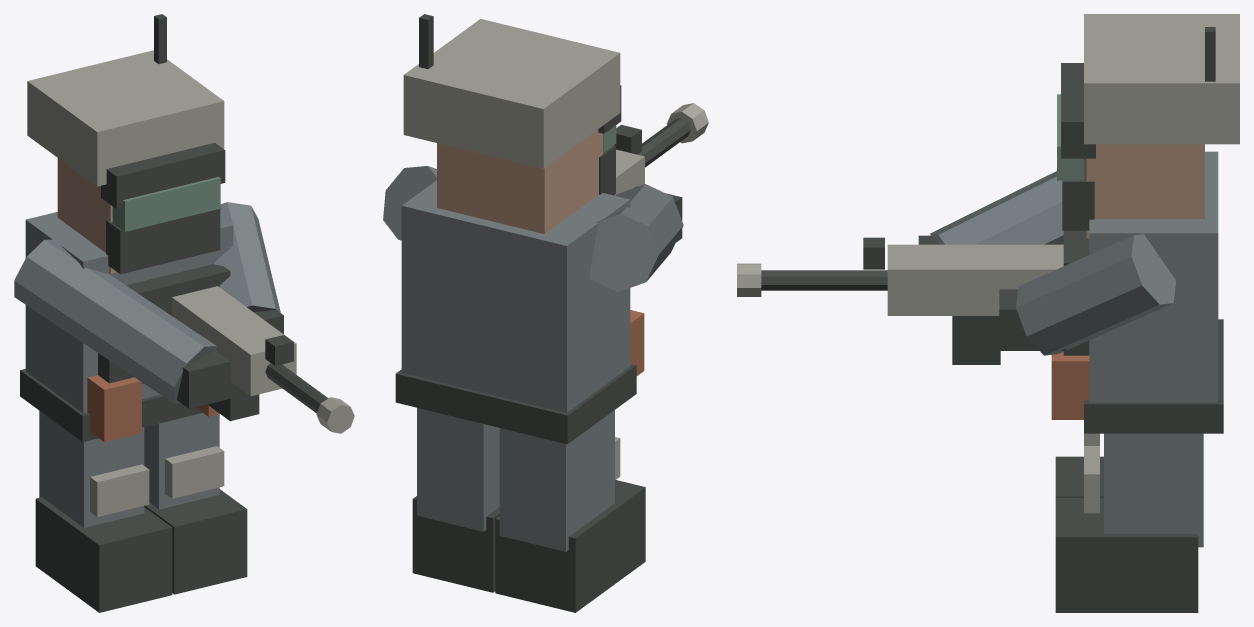
File: raider_guard.glb
The picture shows the model from 3 angles, left to right: view 1: azimuth 30°, elevation 25°; view 2: azimuth 150°, elevation 25°; view 3: azimuth 270°, elevation 25°; orthographic projection. The views are drawn at different scales.
Visible parts, largest first — view 1: ballistic helmet, left sleeve.001, heavy boot.002, layered torso.001, heavy boot.003, cargo trousers.002, rifle receiver.001, face wrap.001, helmet visor, right sleeve.001, cargo trousers.003, goggles.002 (+12 smaller); view 2: layered torso.001, ballistic helmet, cargo trousers.002, heavy boot.002, head.001, cargo trousers.003, belt.002, left sleeve.001, heavy boot.003, right sleeve.001, forward barrel.001, rifle receiver.001 (+5 smaller); view 3: ballistic helmet, layered torso.001, heavy boot.003, right sleeve.001, rifle receiver.001, cargo trousers.003, head.001, left sleeve.001, belt.002, forward barrel.001, ammo pouch.003, helmet visor (+9 smaller).
Boxes of the visible parts, box(x1,y1,x2,y2) form: ballistic helmet: box(27, 50, 224, 186); left sleeve.001: box(14, 239, 217, 403); heavy boot.002: box(35, 497, 172, 612); layered torso.001: box(25, 212, 233, 413); heavy boot.003: box(144, 489, 247, 594); cargo trousers.002: box(39, 411, 144, 527); rifle receiver.001: box(172, 286, 296, 396); face wrap.001: box(106, 209, 220, 274); helmet visor: box(101, 142, 225, 209); right sleeve.001: box(213, 202, 280, 312); cargo trousers.003: box(144, 413, 219, 509); goggles.002: box(112, 177, 220, 231); layered torso.001: box(401, 180, 630, 412); ballistic helmet: box(403, 18, 620, 168); cargo trousers.002: box(499, 410, 614, 551); heavy boot.002: box(495, 480, 645, 612); head.001: box(437, 129, 602, 233); cargo trousers.003: box(417, 408, 499, 531); belt.002: box(395, 364, 636, 444); left sleeve.001: box(589, 184, 683, 292); heavy boot.003: box(412, 496, 499, 592); right sleeve.001: box(383, 166, 436, 240); forward barrel.001: box(638, 118, 690, 167); rifle receiver.001: box(614, 149, 644, 195); ballistic helmet: box(1084, 14, 1239, 144); layered torso.001: box(1089, 151, 1218, 402); heavy boot.003: box(1055, 497, 1198, 612); right sleeve.001: box(1016, 234, 1175, 355); rifle receiver.001: box(887, 244, 1063, 315); cargo trousers.003: box(1104, 433, 1203, 547); head.001: box(1086, 144, 1204, 238); left sleeve.001: box(930, 171, 1063, 244); belt.002: box(1084, 319, 1223, 433); forward barrel.001: box(761, 270, 887, 290); ammo pouch.003: box(1051, 352, 1089, 419); helmet visor: box(1061, 63, 1095, 158).
Bounding box in the file's own units: 1.18 × 2.36 × 1.87.
